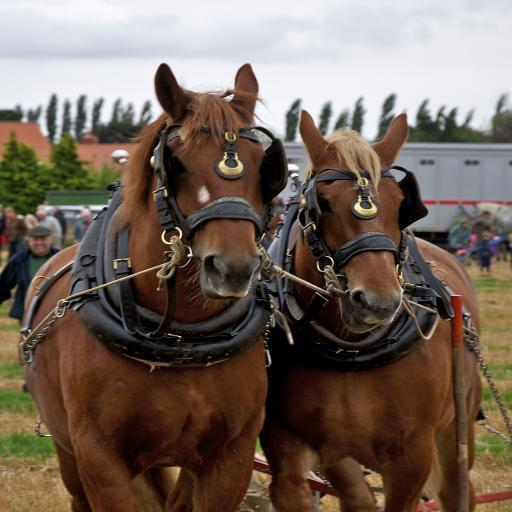horse: (12, 60, 276, 512), (254, 106, 485, 512)
